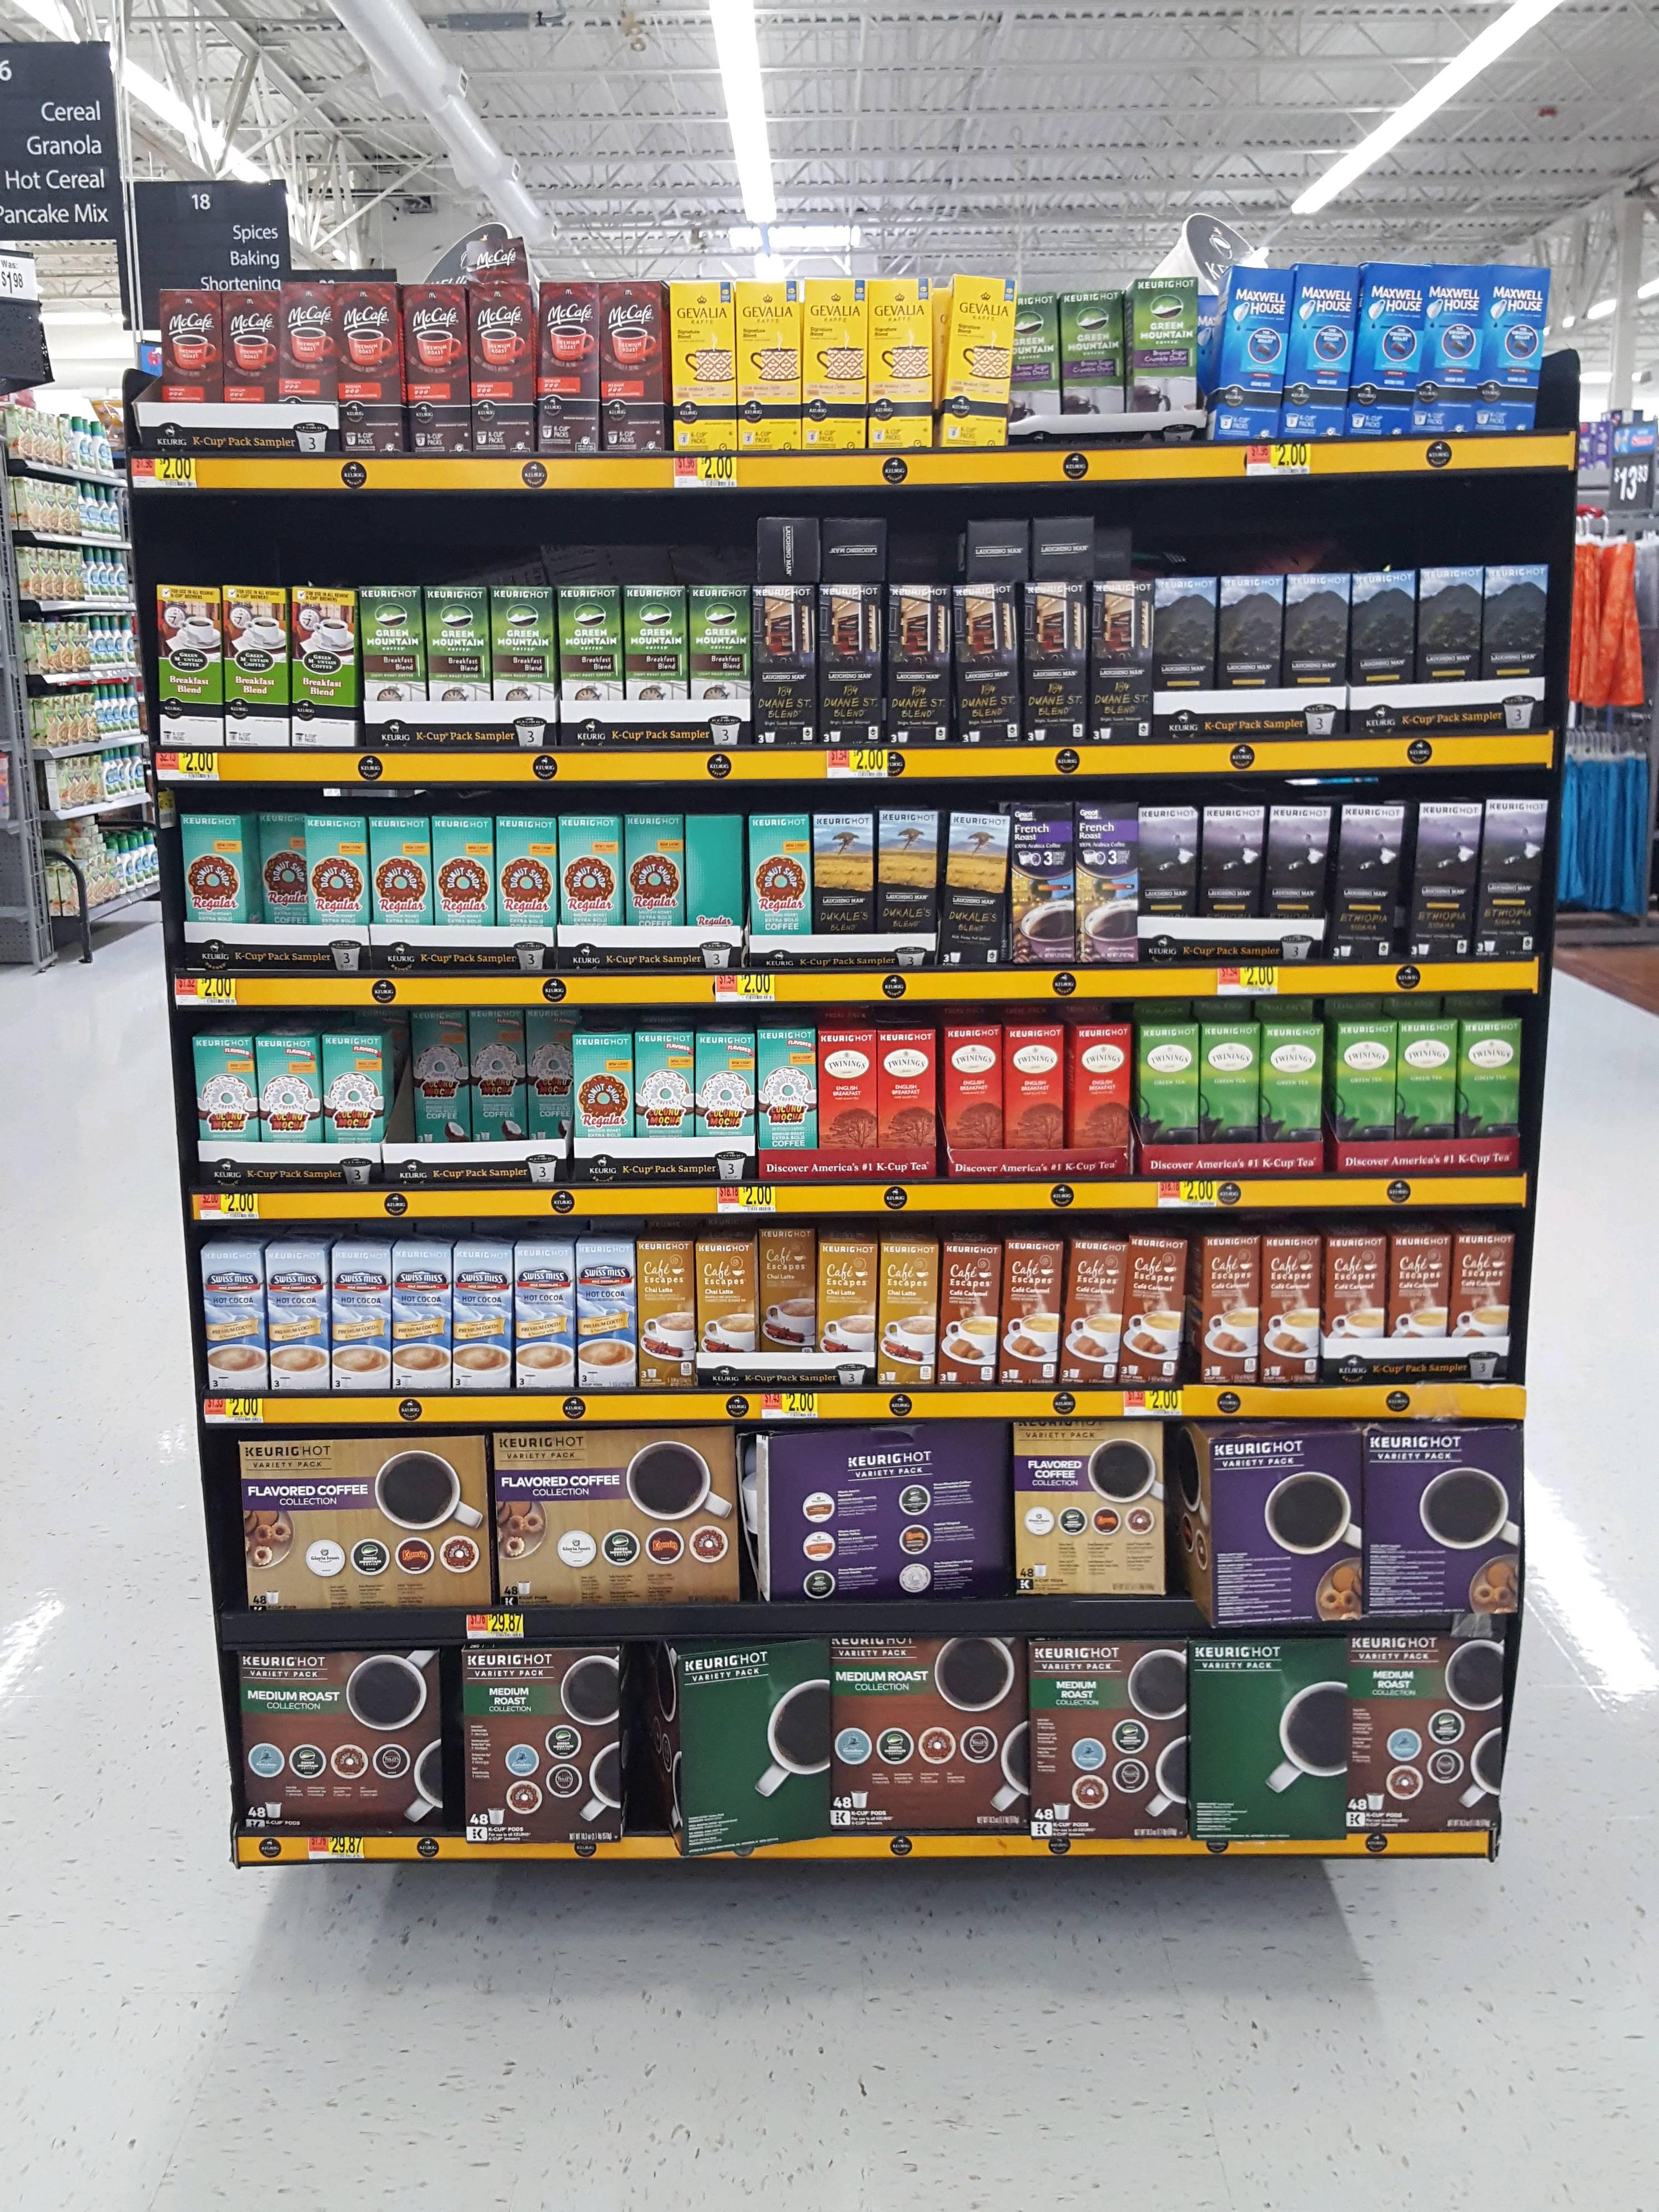misalignment: (735, 1426, 1011, 1599), (645, 1630, 835, 1855), (1169, 1425, 1368, 1620), (1371, 1425, 1518, 1620), (763, 509, 899, 583), (955, 519, 1105, 573), (688, 810, 744, 932)
